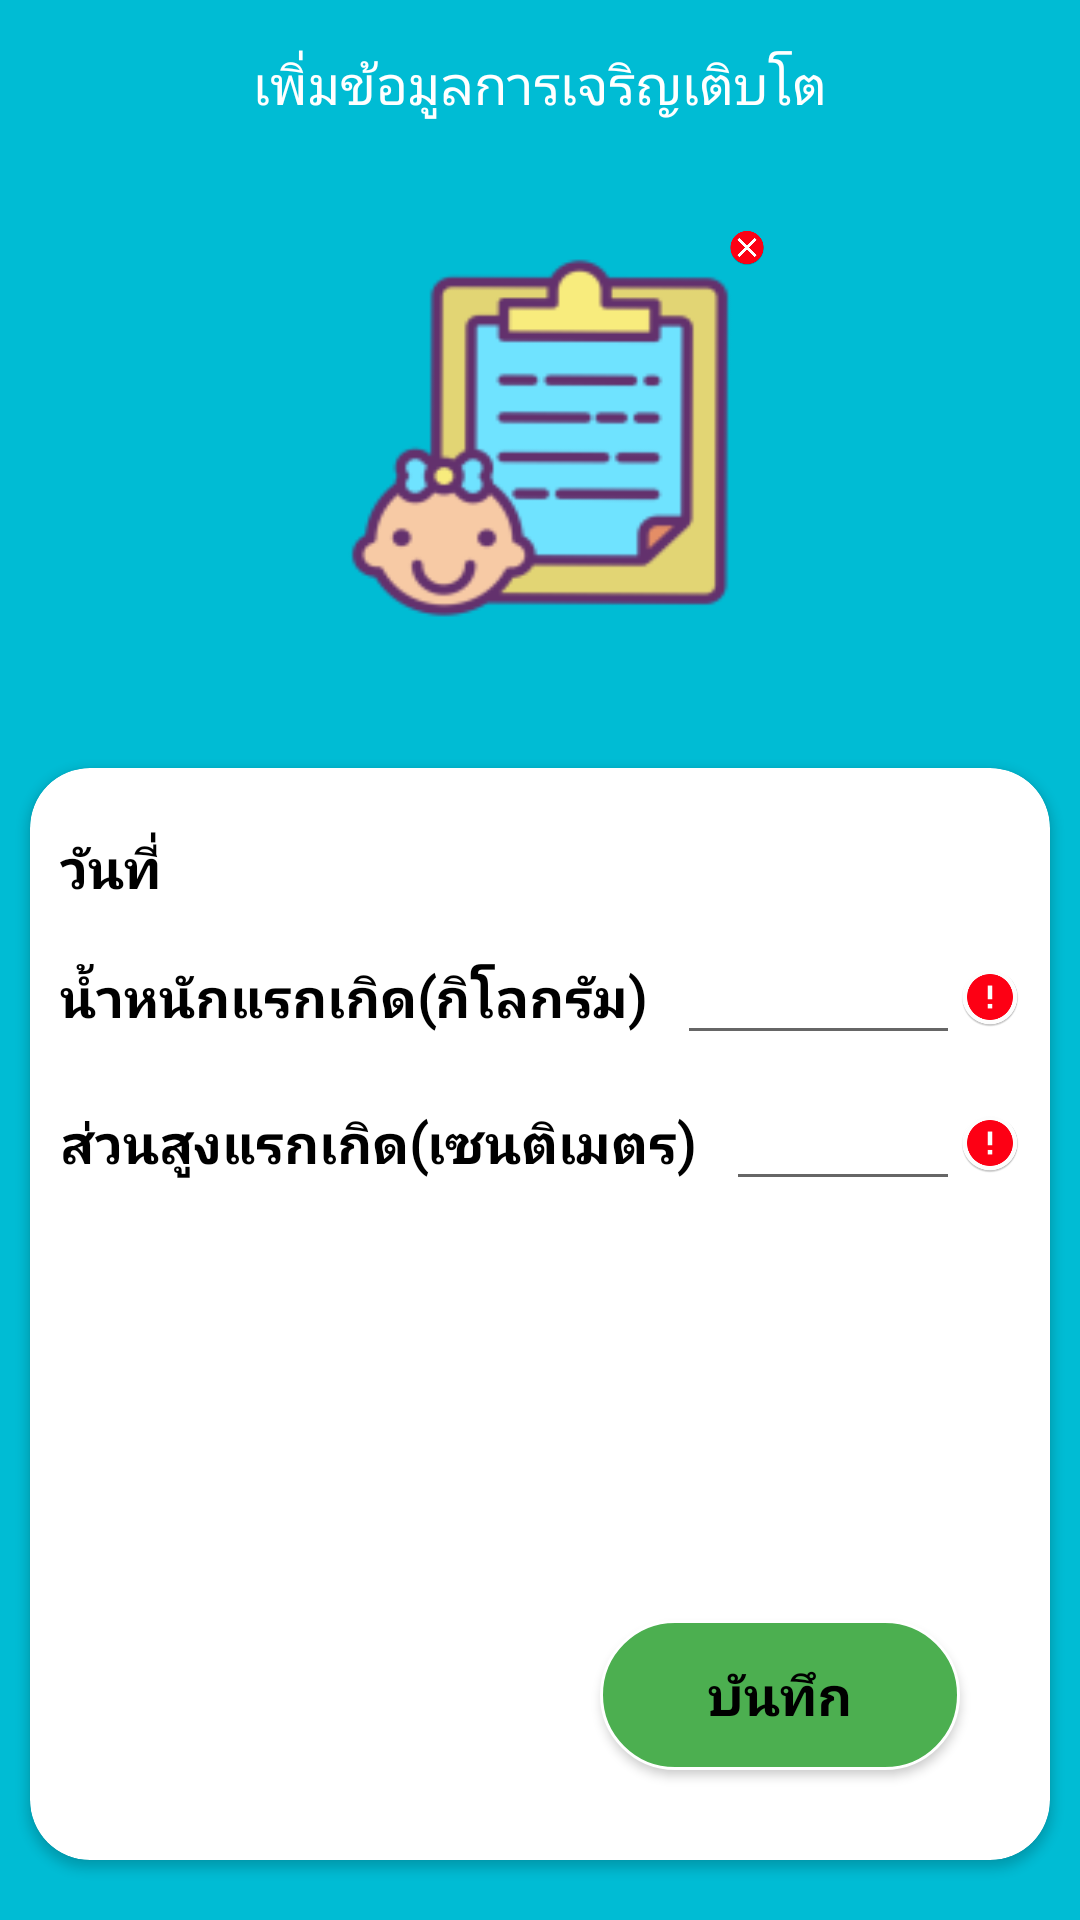

Locate icon controls on the screen. Image size 1080 x 1920, boxes as (x1=x1, y1=y1, x2=x2, y2=y2).
alert: (x1=963, y1=974, x2=1018, y2=1026), (x1=963, y1=1120, x2=1018, y2=1172)
